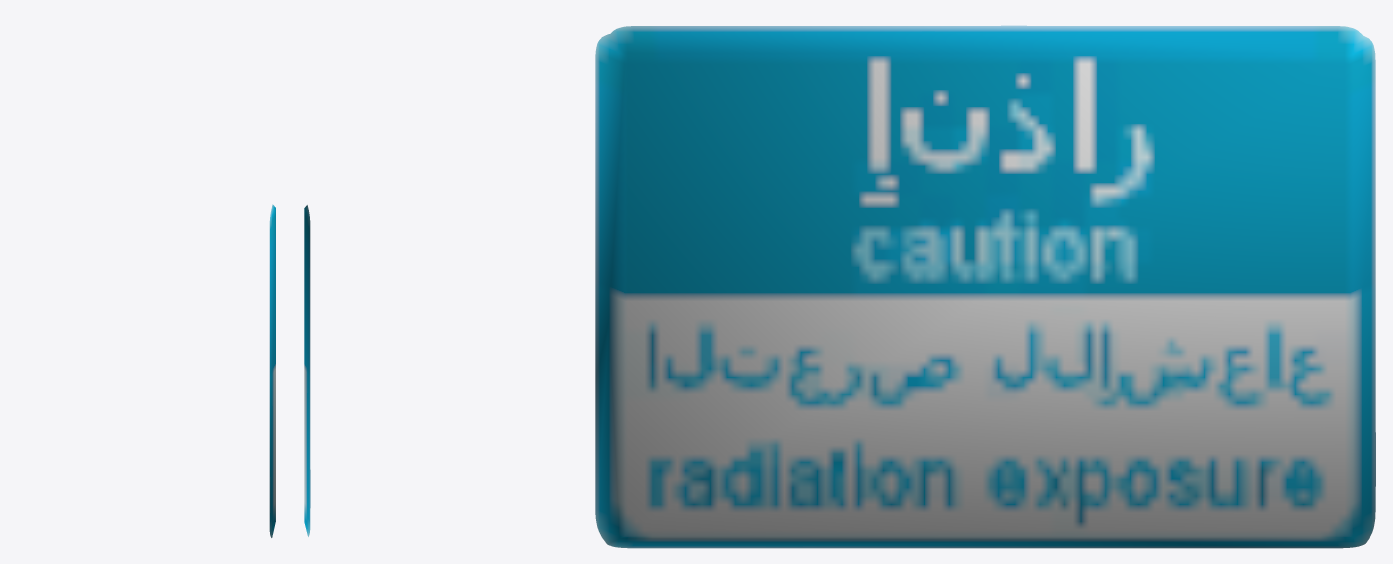
Rendered from M11B_Sign02.glb.
The picture shows the model from 3 angles, left to right: view 1: azimuth 30°, elevation 25°; view 2: azimuth 150°, elevation 25°; view 3: azimuth 270°, elevation 25°; orthographic projection. The views are drawn at different scales.
Visible parts, largest first — view 1: M11B_SIGN02; view 2: M11B_SIGN02; view 3: M11B_SIGN02.
Boxes of the visible parts, bbox=[...] form: M11B_SIGN02: bbox=[269, 204, 275, 537]; M11B_SIGN02: bbox=[304, 205, 310, 536]; M11B_SIGN02: bbox=[595, 25, 1375, 548].
Bounding box in the file's own units: 0.019 × 0.39 × 0.517.
1 material, 1 textured.
